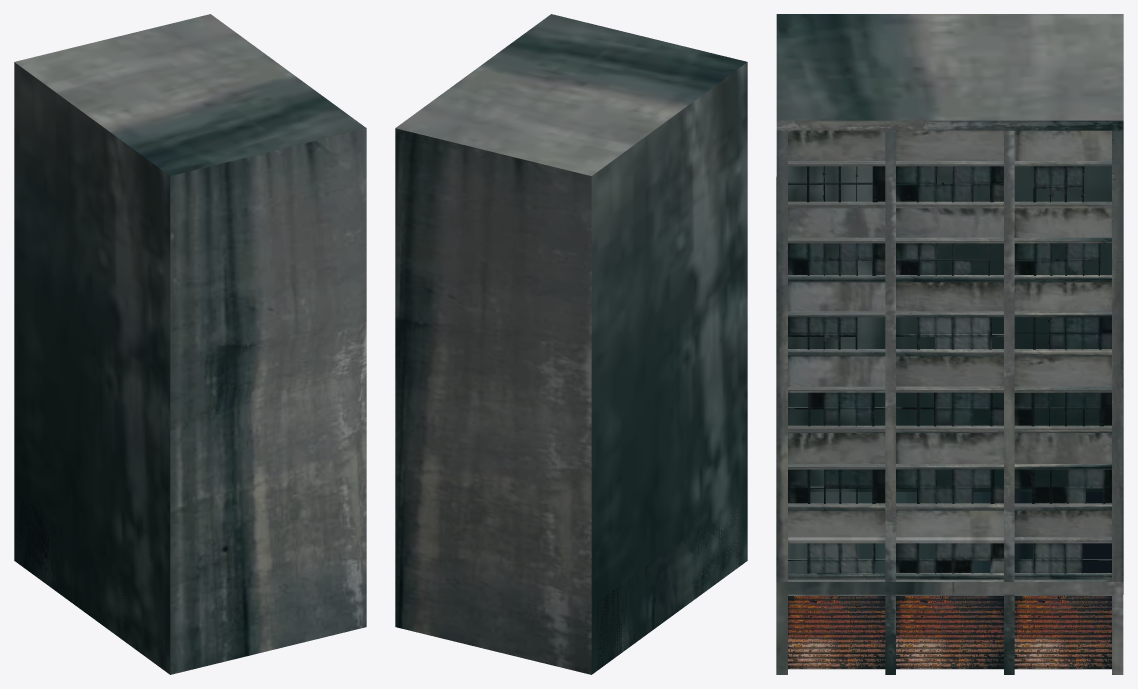
File: house_a.glb
The picture shows the model from 3 angles, left to right: view 1: azimuth 30°, elevation 25°; view 2: azimuth 150°, elevation 25°; view 3: azimuth 270°, elevation 25°; orthographic projection. The views are drawn at different scales.
Visible parts, largest first — view 1: Cube_Material.002_0; view 2: Cube_Material.002_0; view 3: Cube_Material.002_0, 1_Door1_0.
Part boxes in pixels (x1,y1,x2,y2): Cube_Material.002_0: (14, 14, 366, 674); Cube_Material.002_0: (395, 14, 747, 674); Cube_Material.002_0: (776, 14, 1123, 674); 1_Door1_0: (788, 596, 1111, 668).
Bounding box in the file's own units: 3.49 × 8.46 × 4.8.
2 materials, 2 textured.
